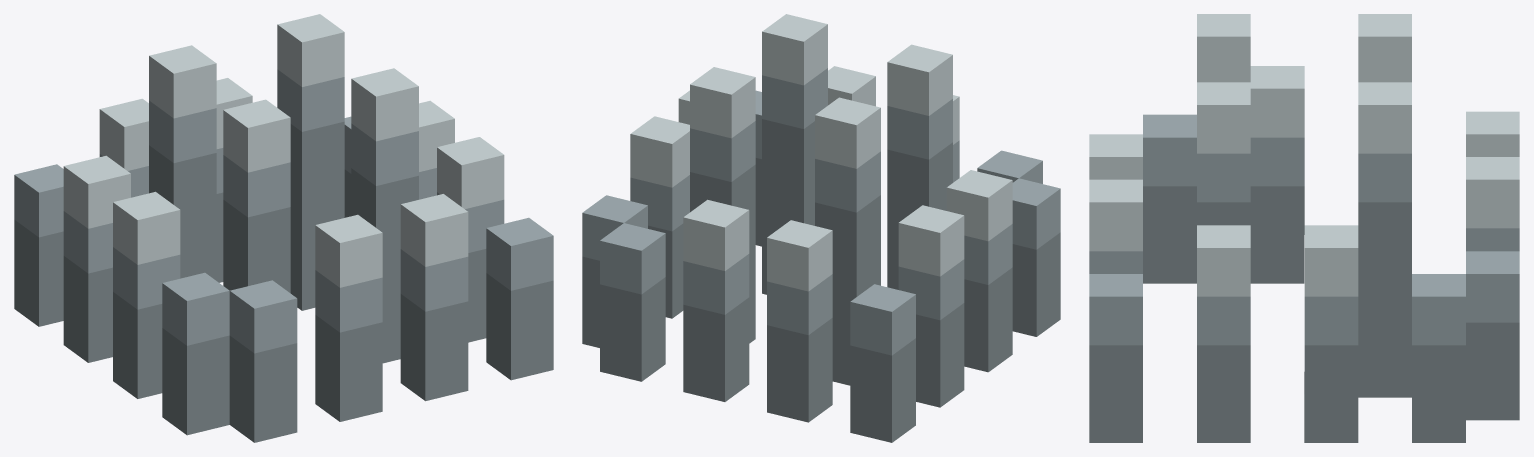
Rendered from Spikes_Iron.glb.
The picture shows the model from 3 angles, left to right: view 1: azimuth 30°, elevation 25°; view 2: azimuth 150°, elevation 25°; view 3: azimuth 270°, elevation 25°; orthographic projection. The views are drawn at different scales.
Parts seen in each view (by area): view 1: Untitled.001; view 2: Untitled.001; view 3: Untitled.001.
Boxes of the visible parts, <box> form: Untitled.001: <box>14,14,553,442</box>; Untitled.001: <box>582,14,1060,442</box>; Untitled.001: <box>1089,14,1519,442</box>.
Size of the model in its own units: 0.8 by 0.6 by 0.8.
1 material, 1 textured.
